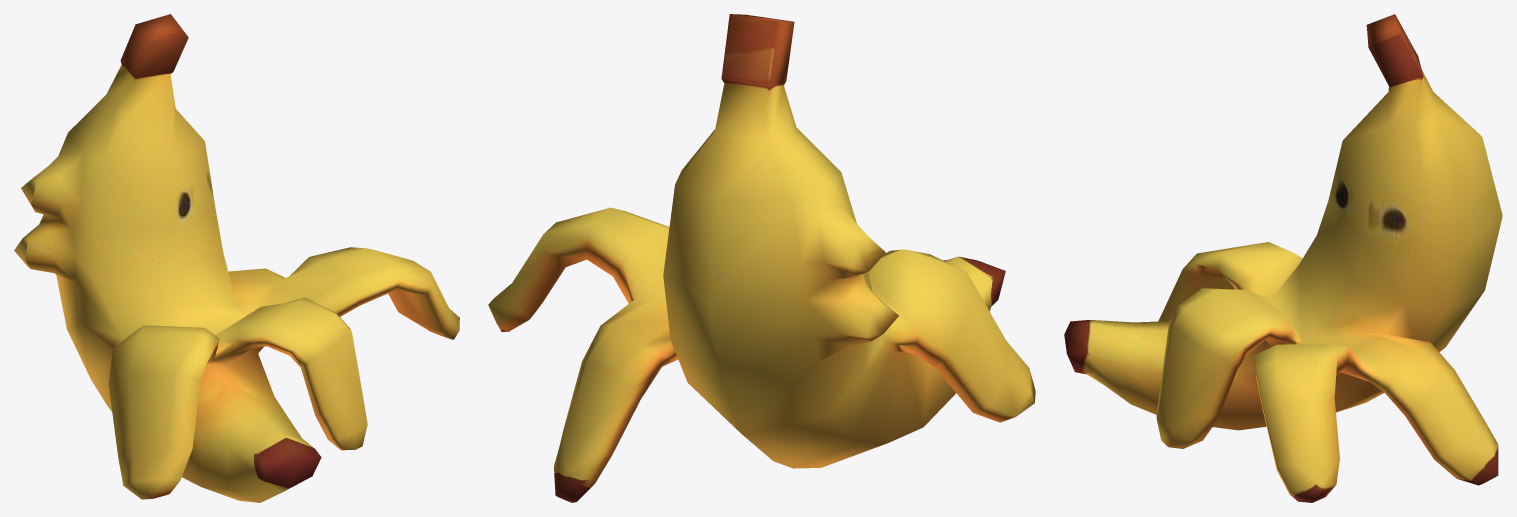
File: item_banana.glb
3 renders of one model, left to right at view 1: azimuth 30°, elevation 25°; view 2: azimuth 150°, elevation 25°; view 3: azimuth 270°, elevation 25°, orthographic. The views are drawn at different scales.
Visible parts, largest first — view 1: tripo_node_d3193f44-4101-46a9-ab21-17fd65c682f9; view 2: tripo_node_d3193f44-4101-46a9-ab21-17fd65c682f9; view 3: tripo_node_d3193f44-4101-46a9-ab21-17fd65c682f9.
Part boxes in pixels (bbox=[...]): tripo_node_d3193f44-4101-46a9-ab21-17fd65c682f9: bbox=[14, 14, 459, 502]; tripo_node_d3193f44-4101-46a9-ab21-17fd65c682f9: bbox=[488, 14, 1035, 502]; tripo_node_d3193f44-4101-46a9-ab21-17fd65c682f9: bbox=[1064, 14, 1502, 502].
Size of the model in its own units: 0.9941 by 0.998 by 0.9629.
Materials: 1 (1 with a texture image).
